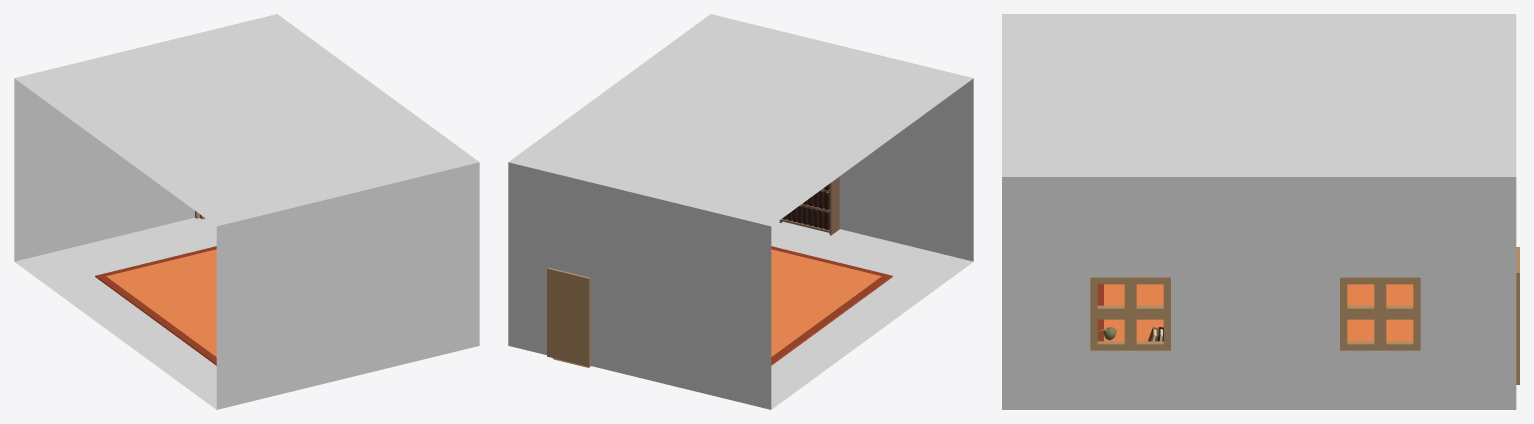
The model's file is room.glb.
The picture shows the model from 3 angles, left to right: view 1: azimuth 30°, elevation 25°; view 2: azimuth 150°, elevation 25°; view 3: azimuth 270°, elevation 25°; orthographic projection. The views are drawn at different scales.
Parts seen in each view (by area): view 1: Room, Carpet; view 2: Room, Carpet, Door, Books.003, Shelves.001; view 3: Room, Carpet, Window.001, Window, Door.
Boxes of the visible parts, bbox=[...] form: Room: bbox=[14, 14, 479, 409]; Carpet: bbox=[95, 246, 216, 365]; Room: bbox=[508, 14, 973, 409]; Carpet: bbox=[771, 246, 892, 365]; Door: bbox=[547, 267, 590, 367]; Books.003: bbox=[782, 184, 829, 229]; Shelves.001: bbox=[779, 176, 839, 235]; Room: bbox=[1002, 14, 1516, 409]; Carpet: bbox=[1097, 284, 1413, 341]; Window.001: bbox=[1340, 277, 1420, 350]; Window: bbox=[1090, 277, 1170, 350]; Door: bbox=[1516, 247, 1519, 384].
Size of the model in its own units: 7.52 by 5.11 by 10.07.
Materials: 14 (5 with a texture image).
